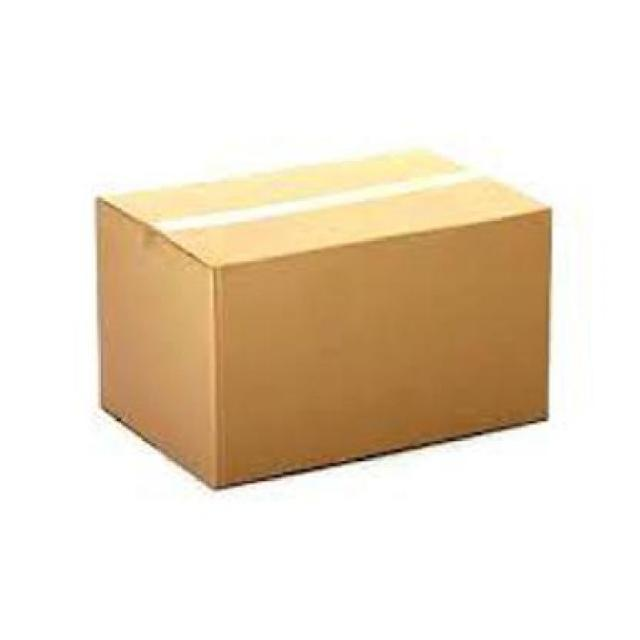normal: (88, 154, 552, 492)
